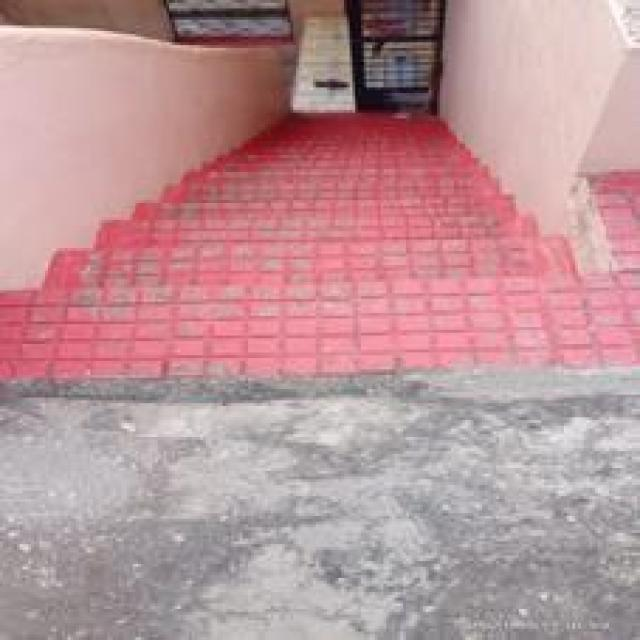downstair: (61, 168, 543, 340)
